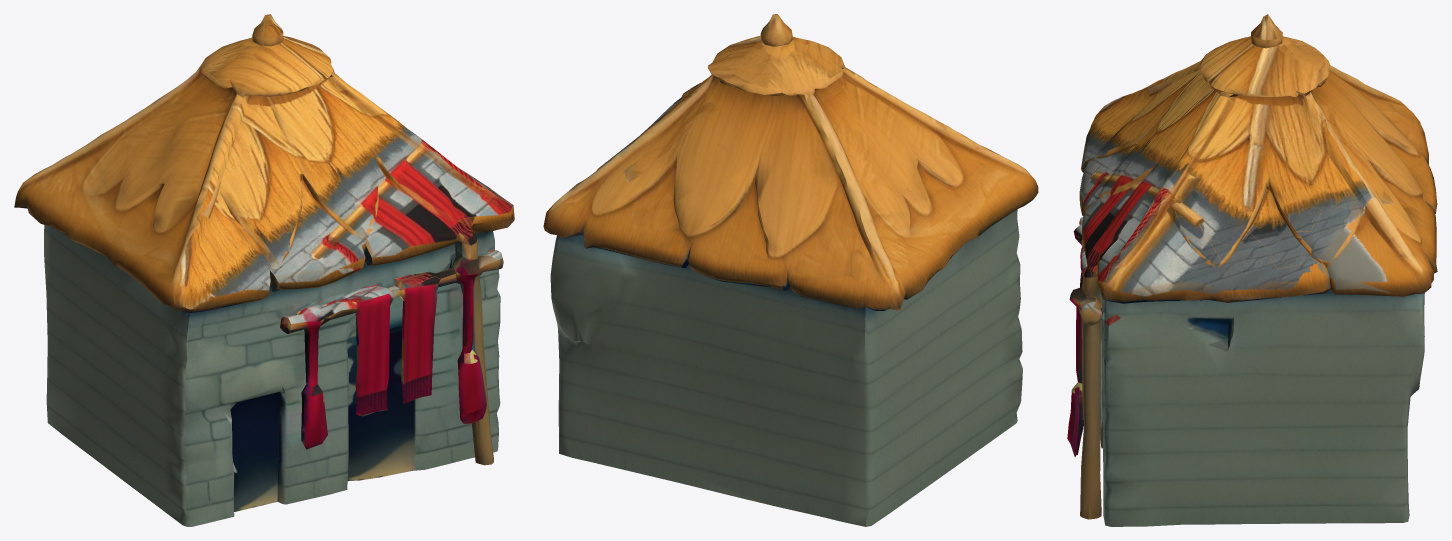
File: tawantinsuyu_campo_tiro.glb
The picture shows the model from 3 angles, left to right: view 1: azimuth 30°, elevation 25°; view 2: azimuth 150°, elevation 25°; view 3: azimuth 270°, elevation 25°; orthographic projection. The views are drawn at different scales.
Visible parts, largest first — view 1: geometry_0; view 2: geometry_0; view 3: geometry_0.
Boxes of the visible parts, x1=… form: geometry_0: x1=14, y1=14, x2=514, y2=526; geometry_0: x1=543, y1=14, x2=1038, y2=526; geometry_0: x1=1067, y1=14, x2=1437, y2=526.
Bounding box in the file's own units: 2.4 × 2.66 × 2.06.
1 material, 1 textured.
